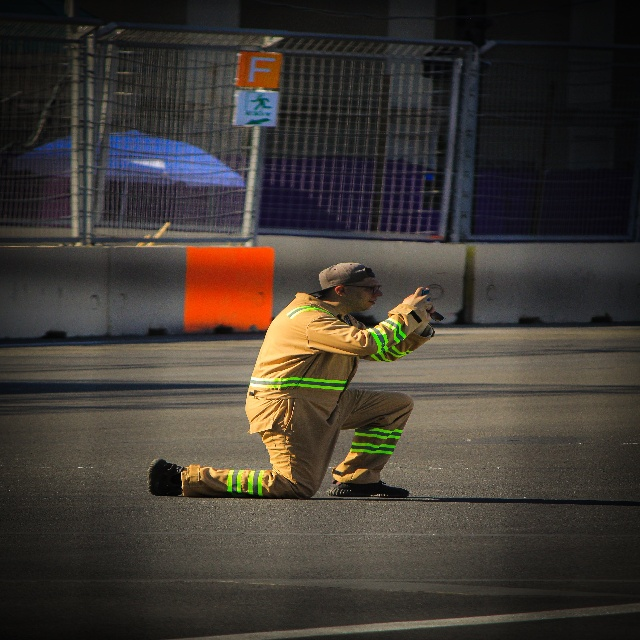Gafas: (343, 284, 382, 293), (430, 310, 445, 322)
Sin_guantes: (403, 287, 432, 310), (419, 305, 435, 322)
